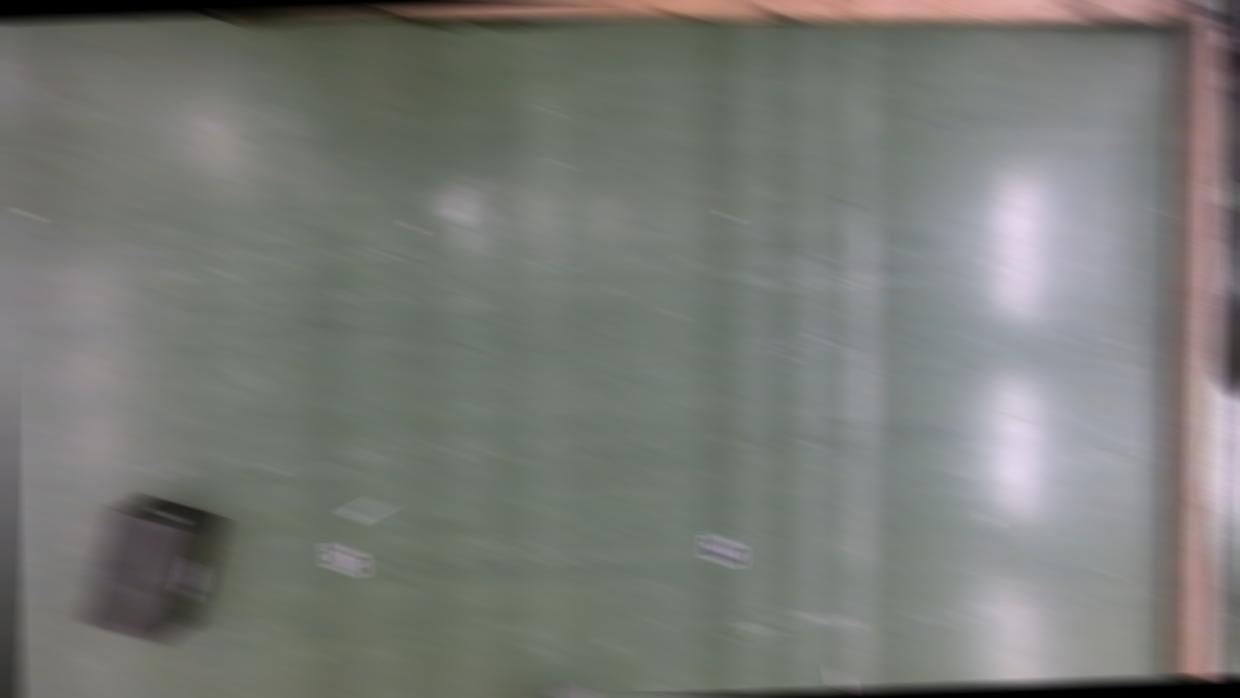probes: (345, 497, 388, 522)
rako: (75, 490, 229, 644)
